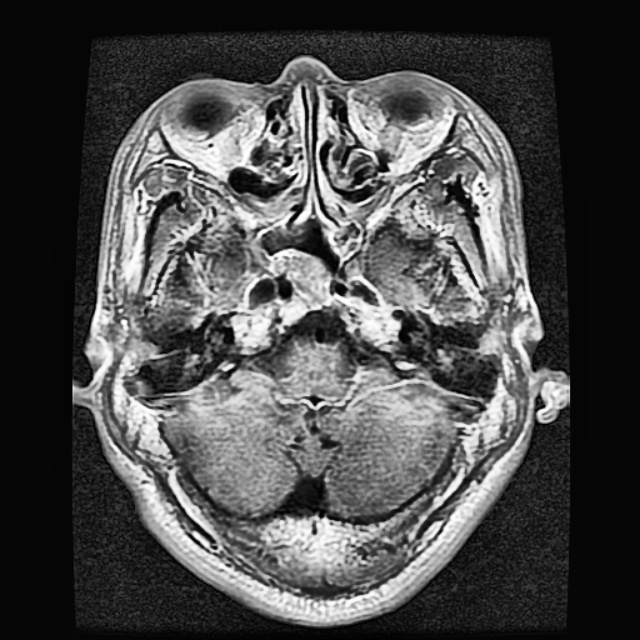Pituitary: (272, 248, 333, 317)
